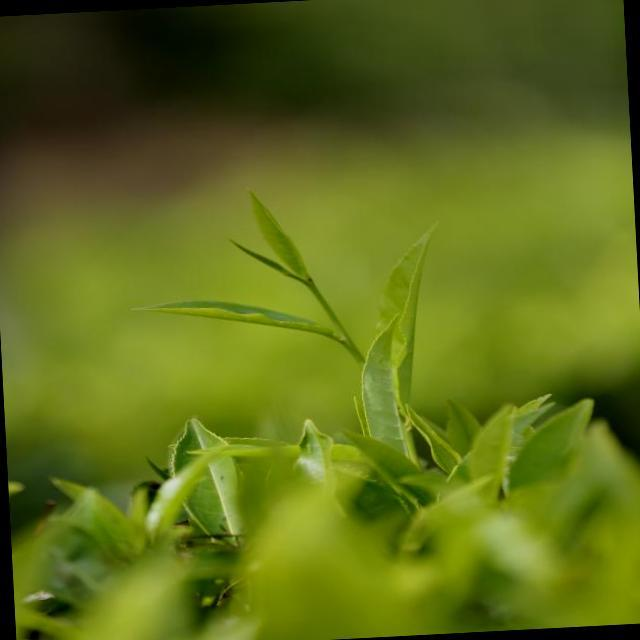Stem: (343, 339, 357, 353)
